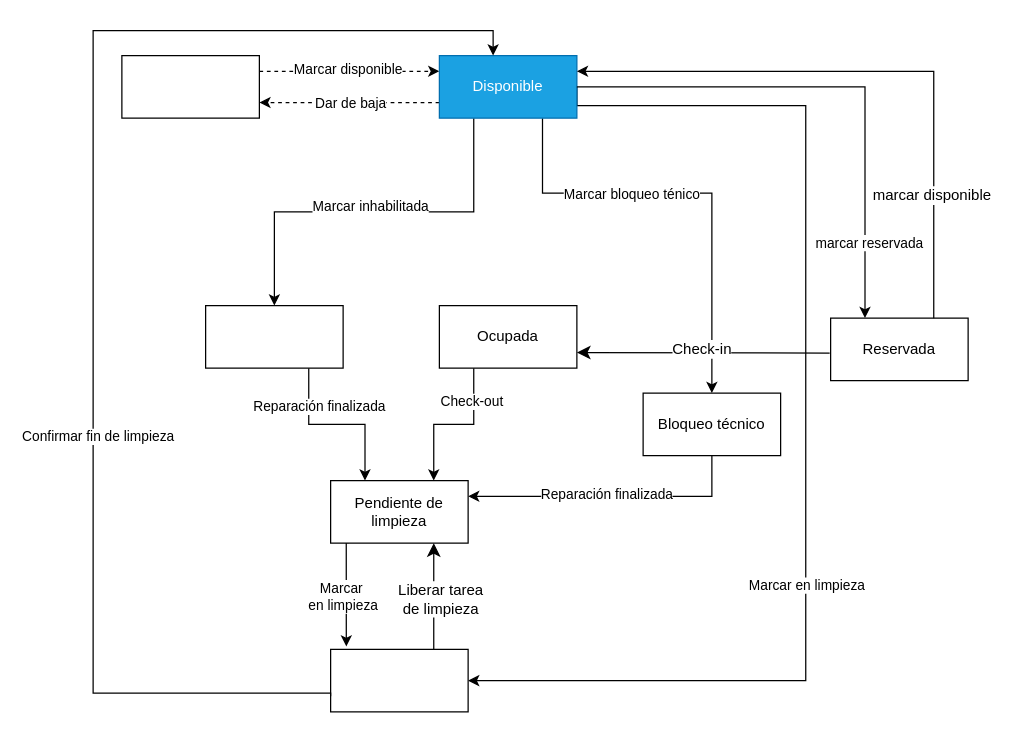
Some shapes in this 1013 by 734 pixel diagram are drawn without their labels. The shapes that lost their labels are listed below. From the top down, each one's centre as x and y in pixels, then its label:
point (190, 86): Inactiva
point (273, 336): Inhabilitada (por reparaciones)
point (398, 680): En Limpieza
